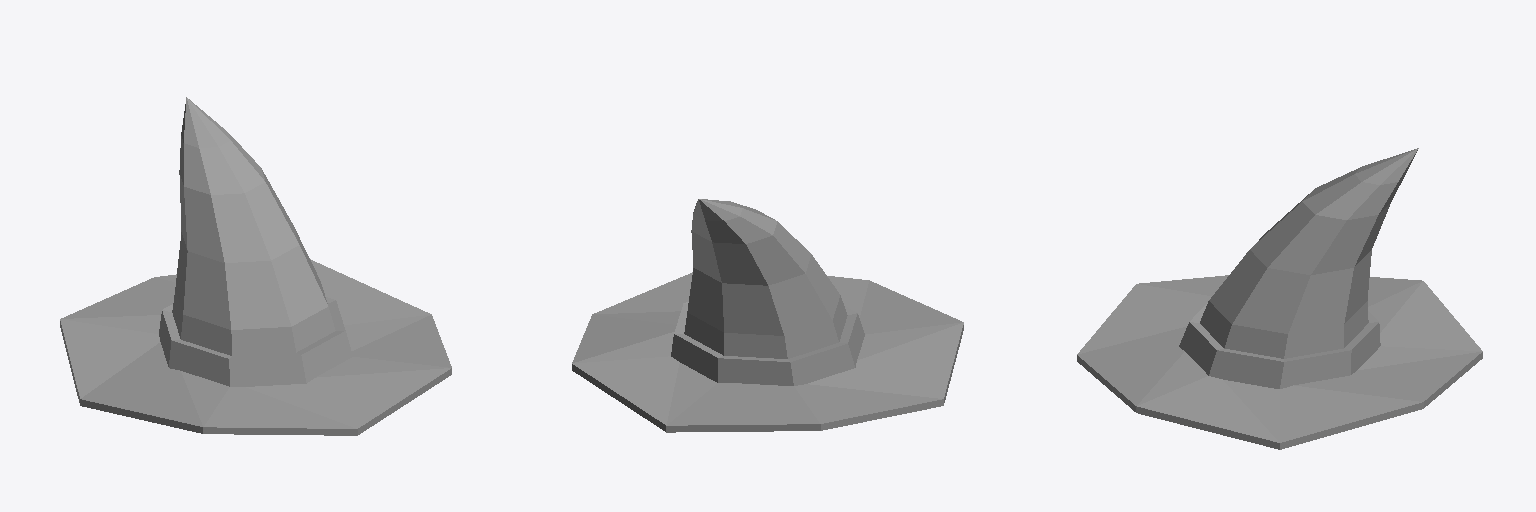
The model's file is WizardHat.obj.
3 views of the same model, side by side, from view 1: azimuth 30°, elevation 25°; view 2: azimuth 150°, elevation 25°; view 3: azimuth 270°, elevation 25° (orthographic).
Parts seen in each view (by area): view 1: Cylinder; view 2: Cylinder; view 3: Cylinder.
Boxes of the visible parts, x1=… form: Cylinder: x1=60, y1=97, x2=451, y2=435; Cylinder: x1=572, y1=199, x2=963, y2=432; Cylinder: x1=1077, y1=148, x2=1482, y2=449.
Size of the model in its own units: 7.08 by 4.16 by 7.09.